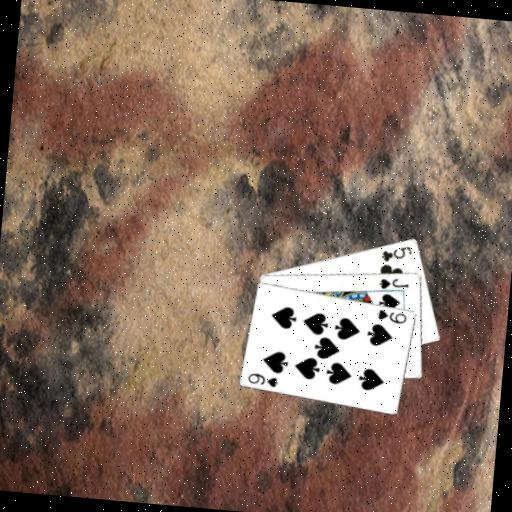5C: (379, 240, 415, 265)
9S: (374, 306, 409, 326), (245, 370, 280, 389)
JS: (376, 273, 411, 292)
